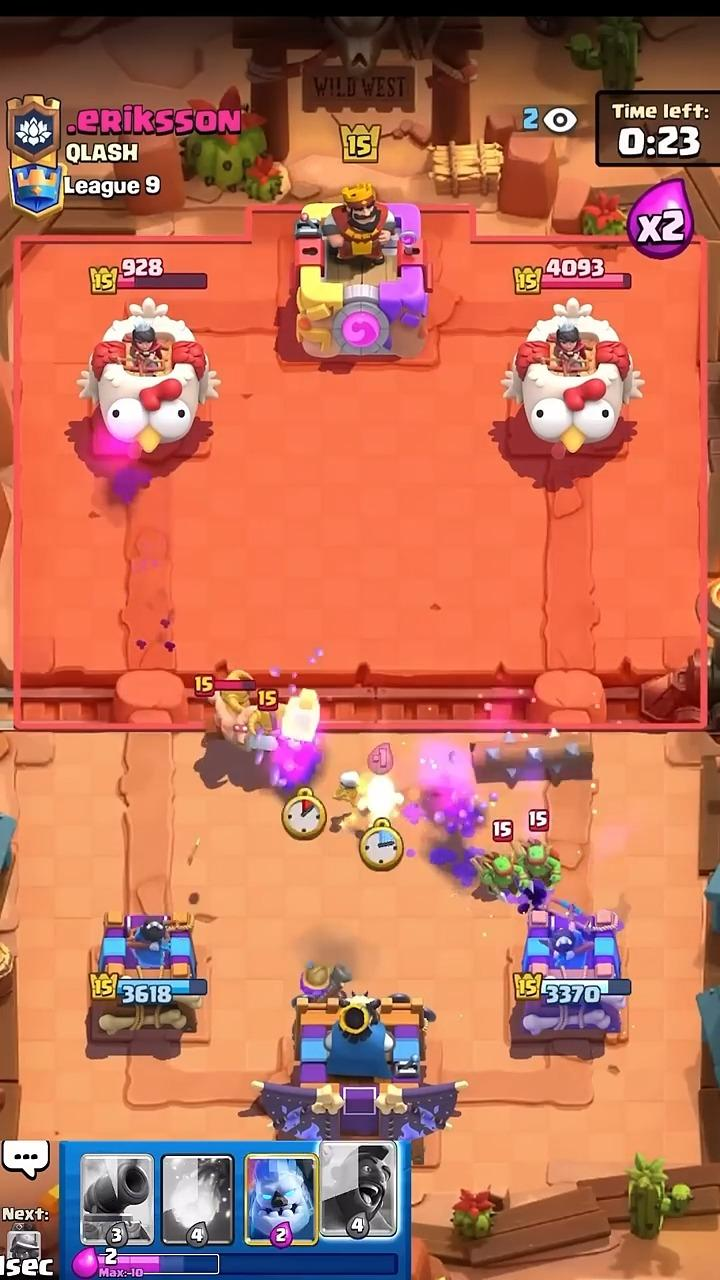elite barbarians: (214, 689, 271, 748), (245, 707, 281, 761), (229, 669, 251, 679)
log: (470, 734, 593, 787)
spear goblin: (516, 840, 561, 891), (476, 850, 517, 896)
